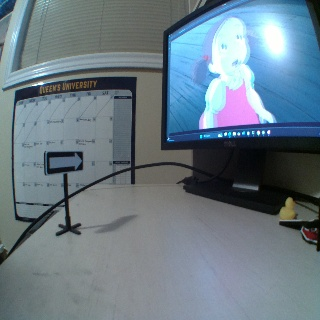sign_oneway_right: (43, 150, 84, 173)
